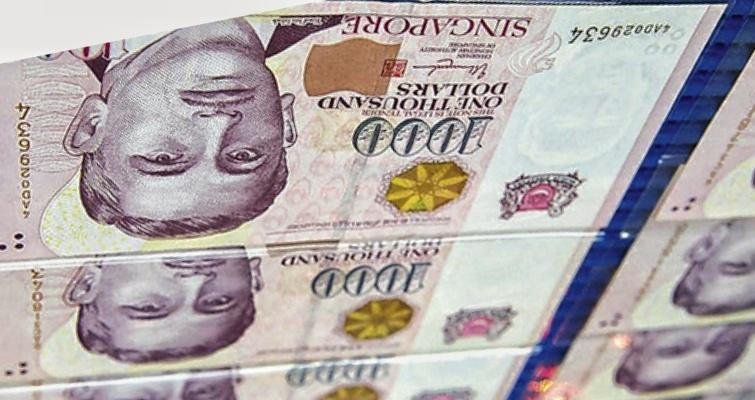1000SingaporeDollar: (0, 5, 671, 252)
